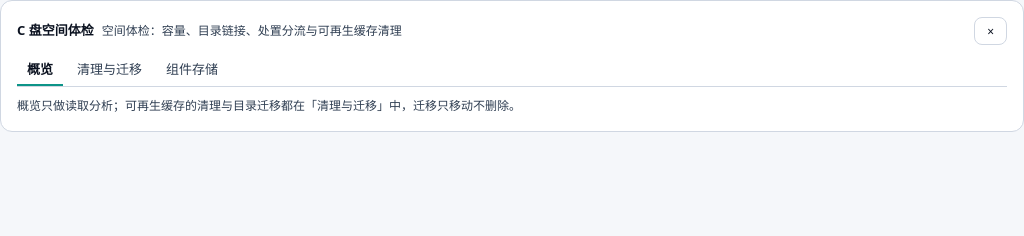
Test: runs the DISM analysis on demand and reports the verdict
This screenshot has width=1024, height=236.
Step 1. Click the tab "组件存储" → coordinates (192, 70), box [156,53,228,86]
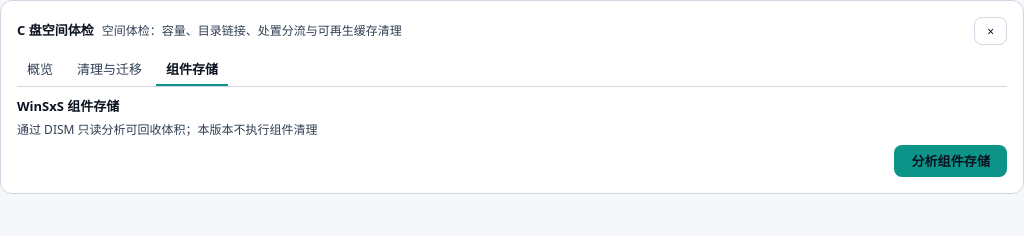
Step 2. Click the button "分析组件存储" → coordinates (951, 160), box [894,144,1007,176]
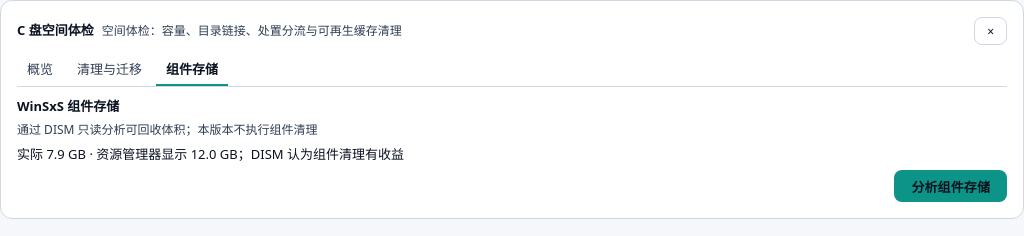
Expected: the message shows "DISM 认为组件清理有收益", [17,144,404,162]
